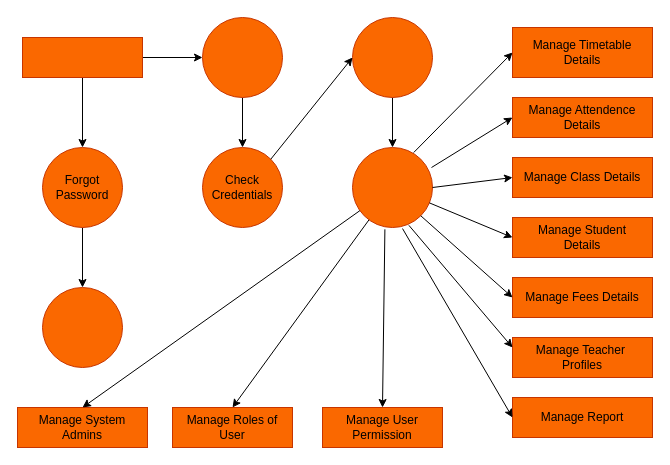
This 670x465 diagram has some shape labels left out. Here are the shapes that lost their labels. From the top down, the box of each, then its label:
(22, 36, 142, 78): Admin
(202, 16, 282, 98): Login to System
(352, 16, 432, 98): Check Roles of Access
(352, 146, 432, 228): Manage Modules
(42, 286, 122, 368): Send Email to User
